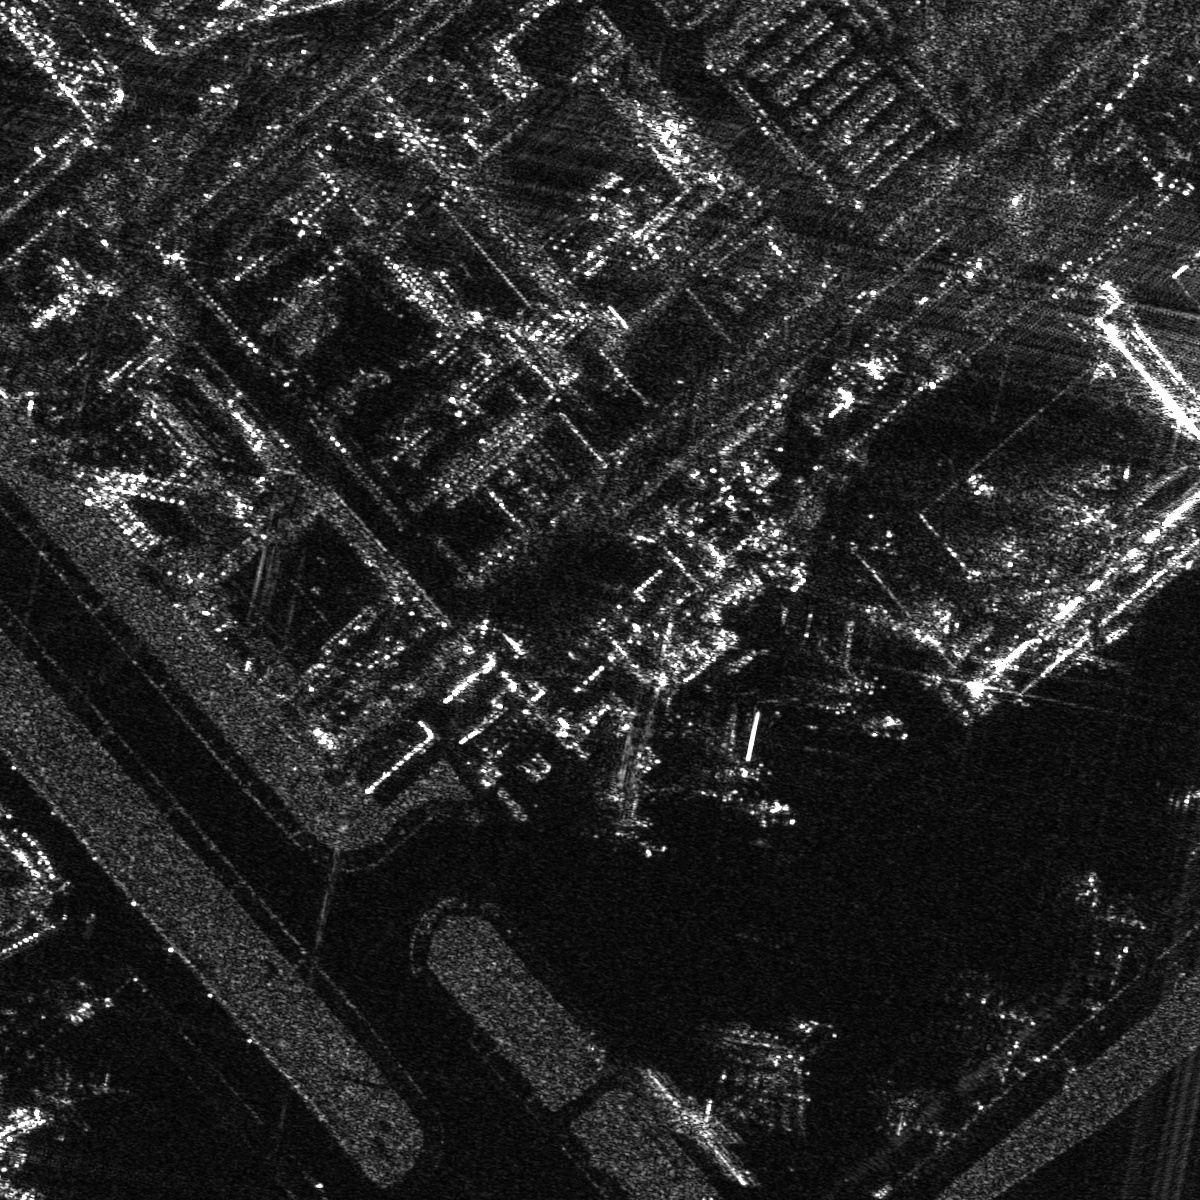Boeing737: (576, 770, 647, 838)
Boeing787: (1068, 860, 1162, 964), (678, 701, 770, 797), (792, 615, 886, 695)
other: (713, 1014, 838, 1136), (938, 957, 1044, 1070), (1165, 779, 1199, 874)
